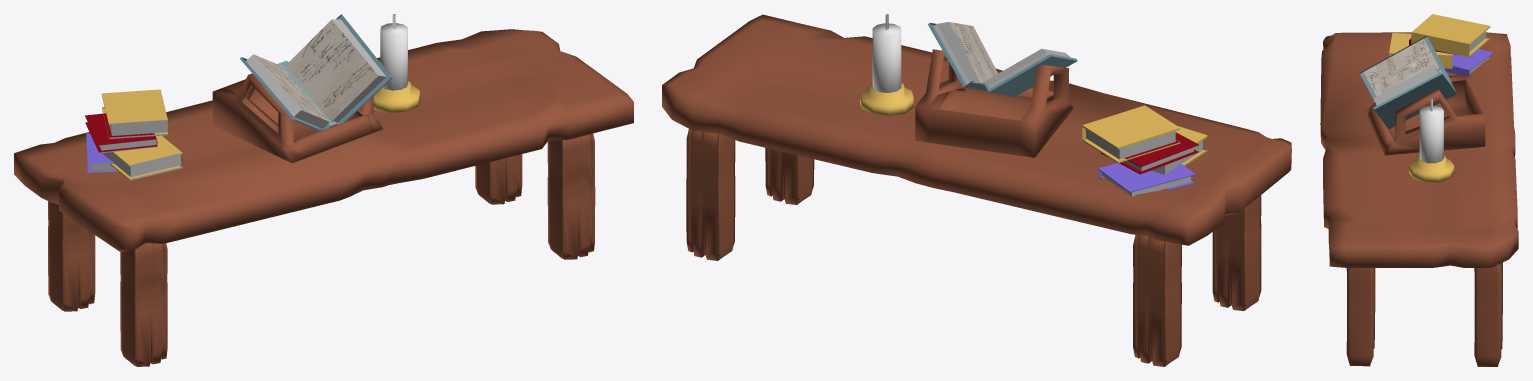
The model's file is Desk.fbx.
3 views of the same model, side by side, from view 1: azimuth 30°, elevation 25°; view 2: azimuth 150°, elevation 25°; view 3: azimuth 270°, elevation 25° (orthographic). The views are drawn at different scales.
Parts seen in each view (by area): view 1: desk, book, books, candle; view 2: desk, book, books, candle; view 3: desk, book, books, candle.
Part boxes in pixels (left/top/right/bottom): desk: left=14, top=29, right=633, bottom=366; book: left=212, top=14, right=392, bottom=163; books: left=85, top=89, right=182, bottom=180; candle: left=373, top=14, right=420, bottom=113; desk: left=662, top=14, right=1291, bottom=366; book: left=915, top=22, right=1077, bottom=157; books: left=1082, top=105, right=1207, bottom=196; candle: left=860, top=14, right=914, bottom=115; desk: left=1320, top=32, right=1518, bottom=366; book: left=1359, top=36, right=1485, bottom=155; books: left=1389, top=14, right=1493, bottom=77; candle: left=1409, top=98, right=1454, bottom=182.
Size of the model in its own units: 424 by 195 by 162.
